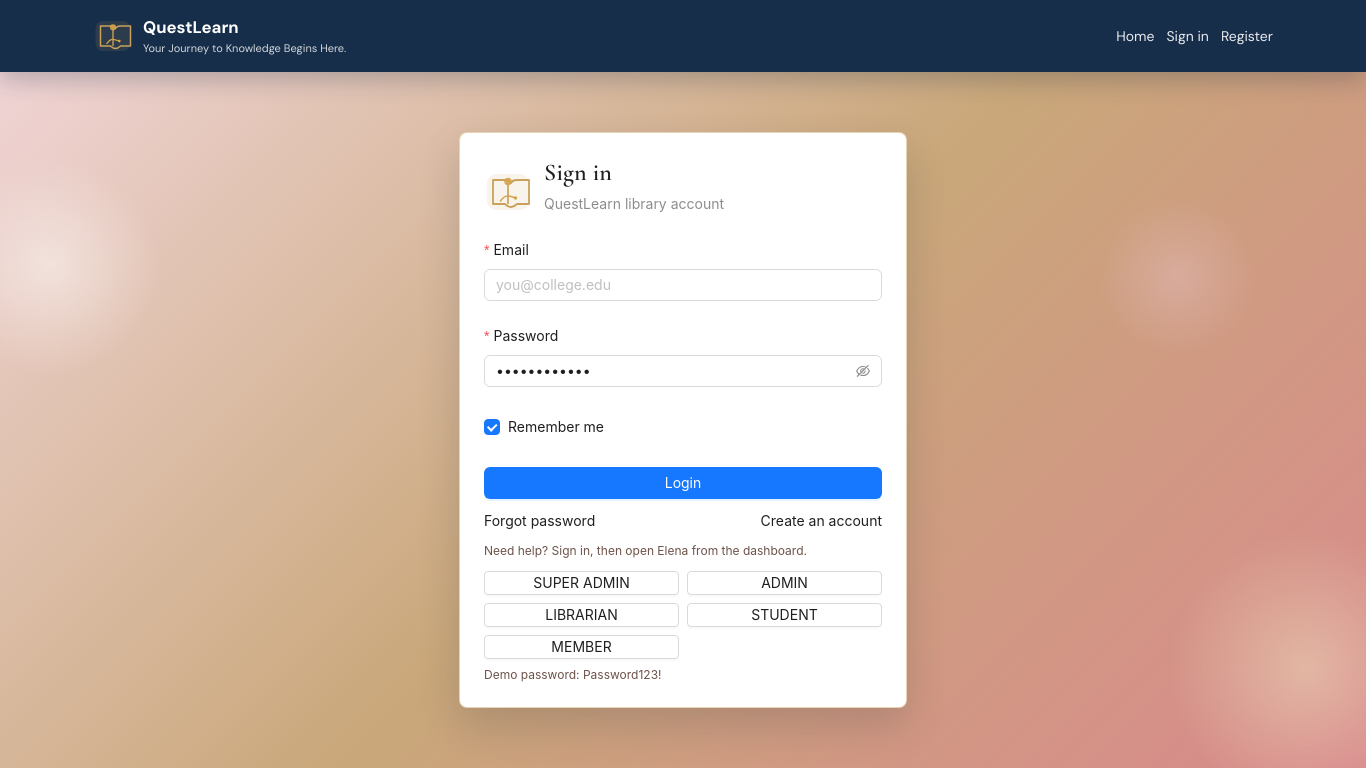
Test: LoginPage › validates empty fields
Step 1. Clear the field labelled "Email" → (683,285), box [484,269,882,301]
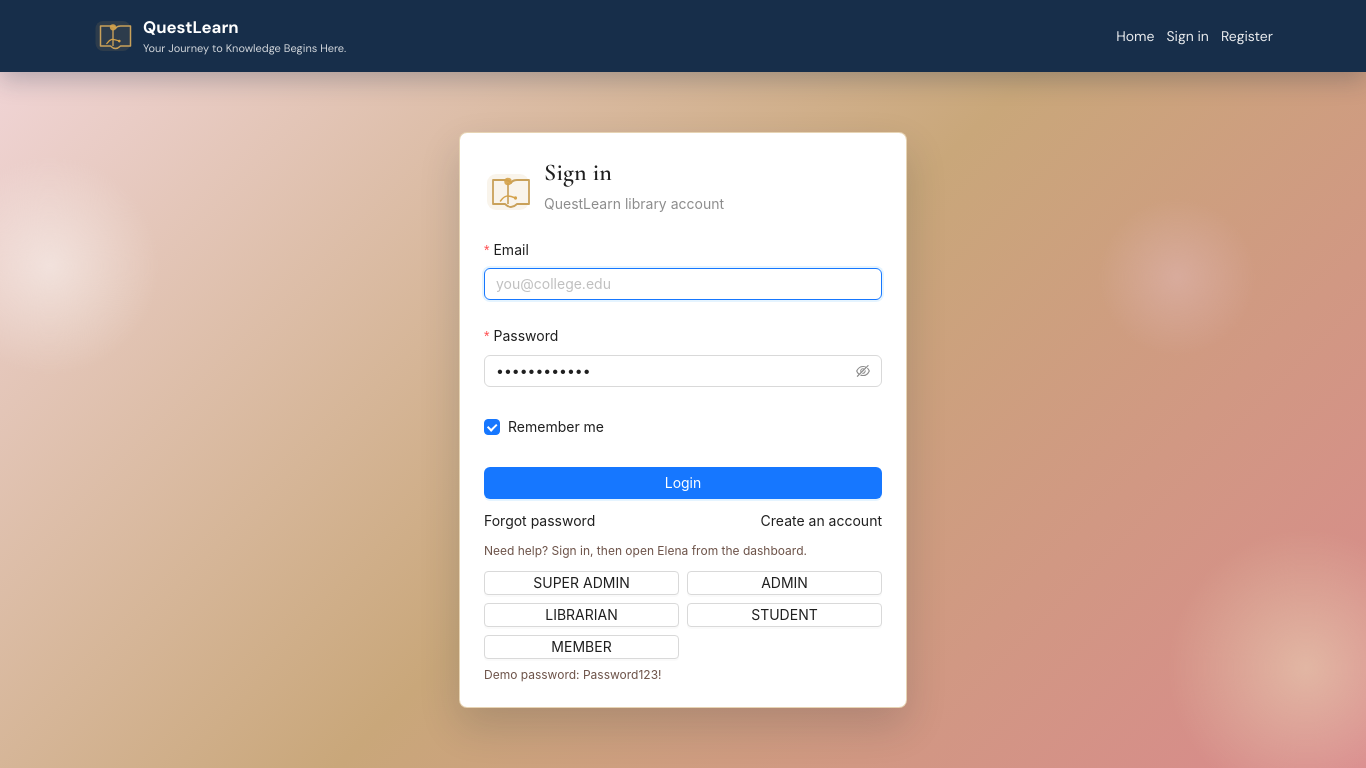
Step 2. Click the button "Login" → (683,483), box [484,467,882,499]
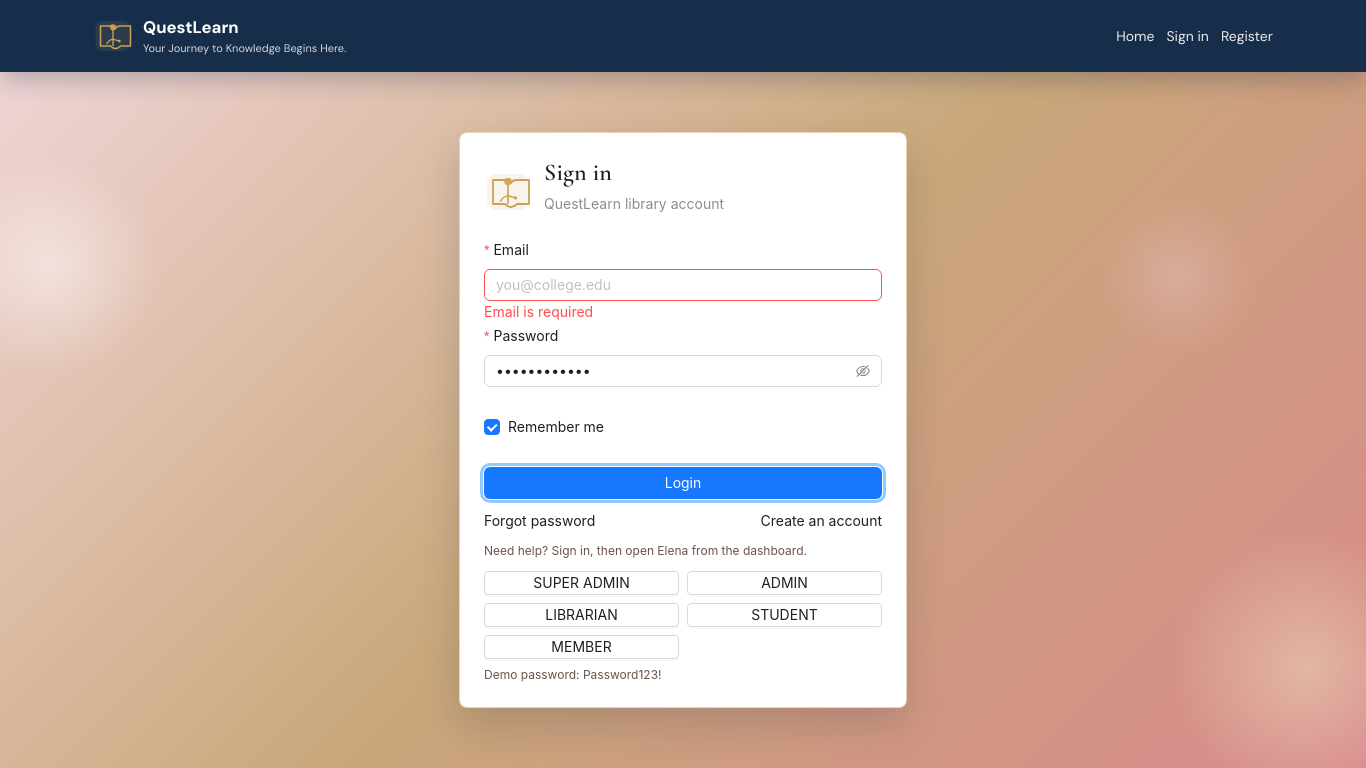
Expected: the text "Email is required" is shown, [484,303,593,320]
